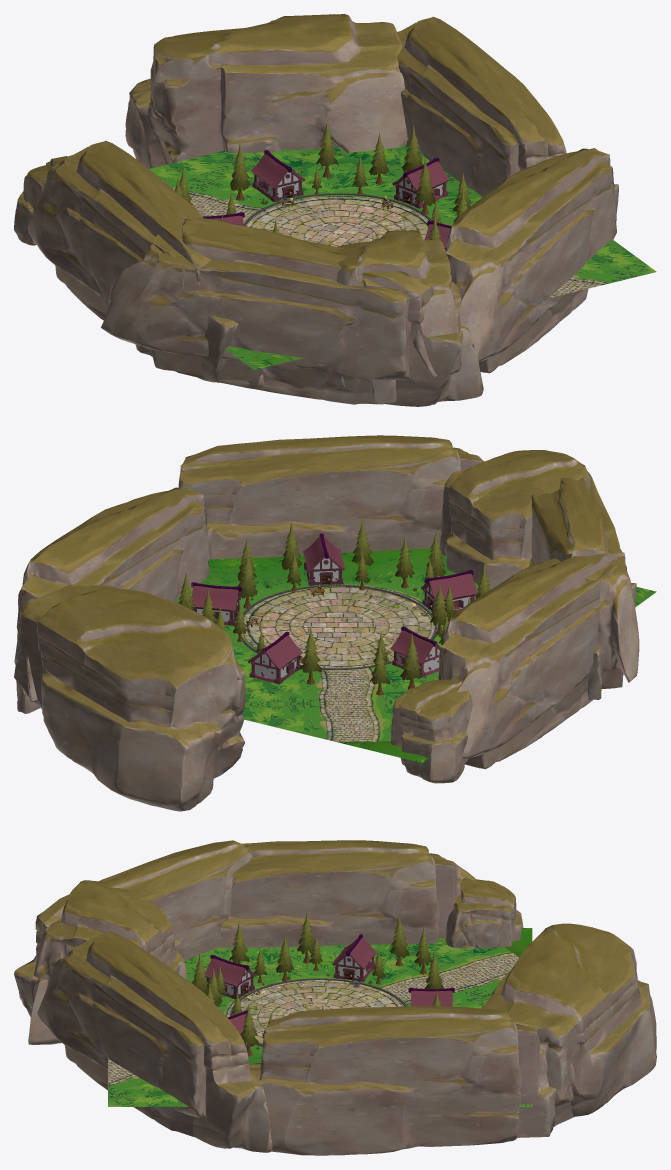
File: map2.glb
3 renders of one model, top to bottom at view 1: azimuth 30°, elevation 25°; view 2: azimuth 150°, elevation 25°; view 3: azimuth 270°, elevation 25°, orthographic. The views are drawn at different scales.
Visible parts, largest first — view 1: Rock_01_Low.005, Rock_01_Low.003, Rock_01_Low.006, Plane, Rock_01_Low.004, Rock_01_Low.002, Rock_01_Low.001, Rock_01_Low, Object_5_remesh-toit.002, Object_5_remesh-charpente, Object_5_remesh-toit.005, l_bigtree.002 (+2 smaller); view 2: Rock_01_Low.003, Rock_01_Low.006, Plane, Rock_01_Low.004, Rock_01_Low.002, Rock_01_Low.001, Rock_01_Low.005, Rock_01_Low, Object_5_remesh-toit.005, Object_5_remesh-toit.011, Object_5_remesh-toit.008, Object_5_remesh-toit.002 (+4 smaller); view 3: Rock_01_Low.002, Rock_01_Low.006, Rock_01_Low.004, Rock_01_Low.003, Plane, Rock_01_Low.005, Rock_01_Low.001, Rock_01_Low, Object_5_remesh-toit.011, Object_5_remesh-toit.014, Object_5_remesh-toit.002, l_bigtree.001 (+1 smaller).
Boxes of the visible parts, x1=… form: Rock_01_Low.005: x1=100, y1=218, x2=483, y2=406; Rock_01_Low.003: x1=125, y1=14, x2=408, y2=168; Rock_01_Low.006: x1=445, y1=148, x2=618, y2=373; Plane: x1=149, y1=145, x2=656, y2=370; Rock_01_Low.004: x1=27, y1=140, x2=263, y2=388; Rock_01_Low.002: x1=396, y1=17, x2=566, y2=196; Rock_01_Low.001: x1=336, y1=230, x2=461, y2=403; Rock_01_Low: x1=14, y1=156, x2=67, y2=245; Object_5_remesh-toit.002: x1=250, y1=153, x2=305, y2=188; Object_5_remesh-charpente: x1=252, y1=172, x2=303, y2=202; Object_5_remesh-toit.005: x1=392, y1=161, x2=450, y2=192; l_bigtree.002: x1=230, y1=143, x2=250, y2=200; Rock_01_Low.003: x1=14, y1=585, x2=245, y2=811; Rock_01_Low.006: x1=178, y1=435, x2=483, y2=559; Plane: x1=174, y1=548, x2=656, y2=762; Rock_01_Low.004: x1=438, y1=547, x2=636, y2=769; Rock_01_Low.002: x1=16, y1=487, x2=212, y2=713; Rock_01_Low.001: x1=439, y1=450, x2=590, y2=589; Rock_01_Low.005: x1=529, y1=471, x2=639, y2=700; Rock_01_Low: x1=390, y1=679, x2=473, y2=783; Object_5_remesh-toit.005: x1=191, y1=586, x2=242, y2=611; Object_5_remesh-toit.011: x1=421, y1=573, x2=477, y2=600; Object_5_remesh-toit.008: x1=303, y1=537, x2=345, y2=571; Object_5_remesh-toit.002: x1=248, y1=635, x2=302, y2=670; Rock_01_Low.002: x1=248, y1=1006, x2=580, y2=1155; Rock_01_Low.006: x1=37, y1=931, x2=272, y2=1152; Rock_01_Low.004: x1=217, y1=840, x2=476, y2=947; Rock_01_Low.003: x1=481, y1=923, x2=656, y2=1126; Plane: x1=108, y1=928, x2=532, y2=1106; Rock_01_Low.005: x1=14, y1=840, x2=252, y2=1044; Rock_01_Low.001: x1=27, y1=880, x2=187, y2=1008; Rock_01_Low: x1=445, y1=878, x2=523, y2=948; Object_5_remesh-toit.011: x1=204, y1=958, x2=256, y2=986; Object_5_remesh-toit.014: x1=332, y1=937, x2=376, y2=969; Object_5_remesh-toit.002: x1=411, y1=990, x2=452, y2=1006; l_bigtree.001: x1=389, y1=913, x2=409, y2=966.
Size of the model in its own units: 118 by 33 by 144.
Materials: 30 (18 with a texture image).
